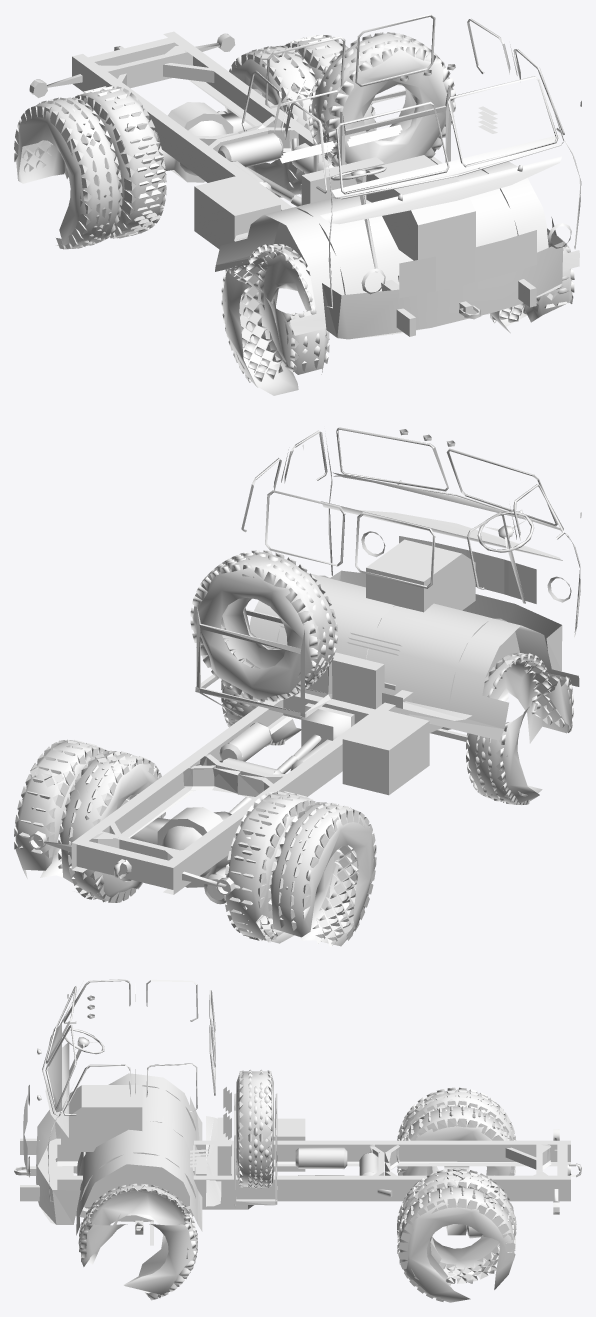
3 views of the same model, one above another, from view 1: azimuth 30°, elevation 25°; view 2: azimuth 150°, elevation 25°; view 3: azimuth 270°, elevation 25° (orthographic). The views are drawn at different scales.
Bounding box in the file's own units: 3.14 × 3.16 × 6.67.
Materials: 1 (1 with a texture image).
